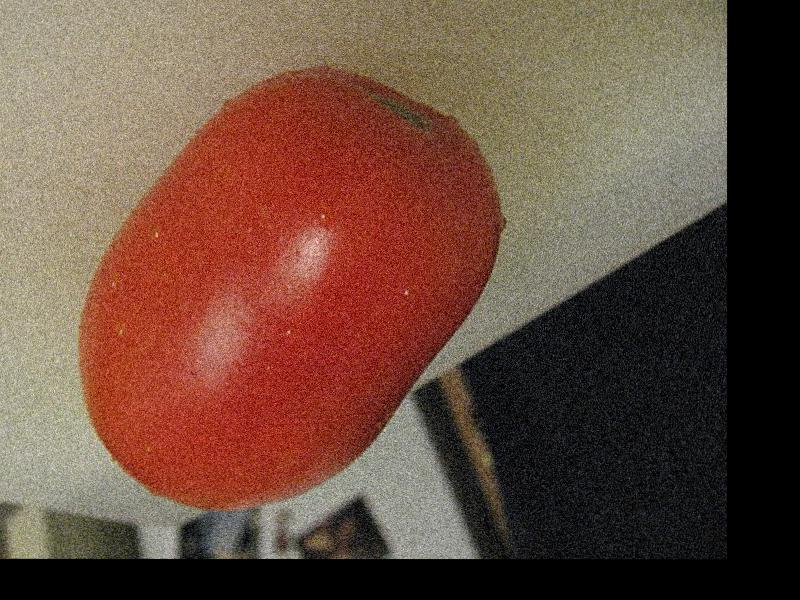Tomato: (79, 70, 502, 512)
